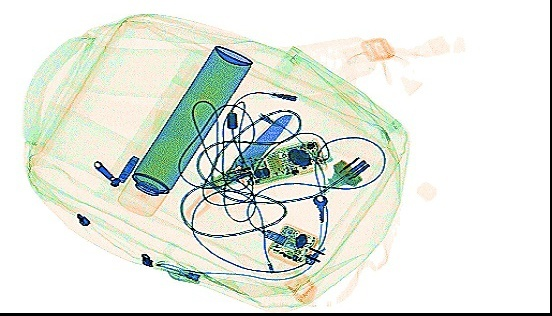knife: (183, 112, 294, 221)
pressure: (115, 43, 252, 216)
